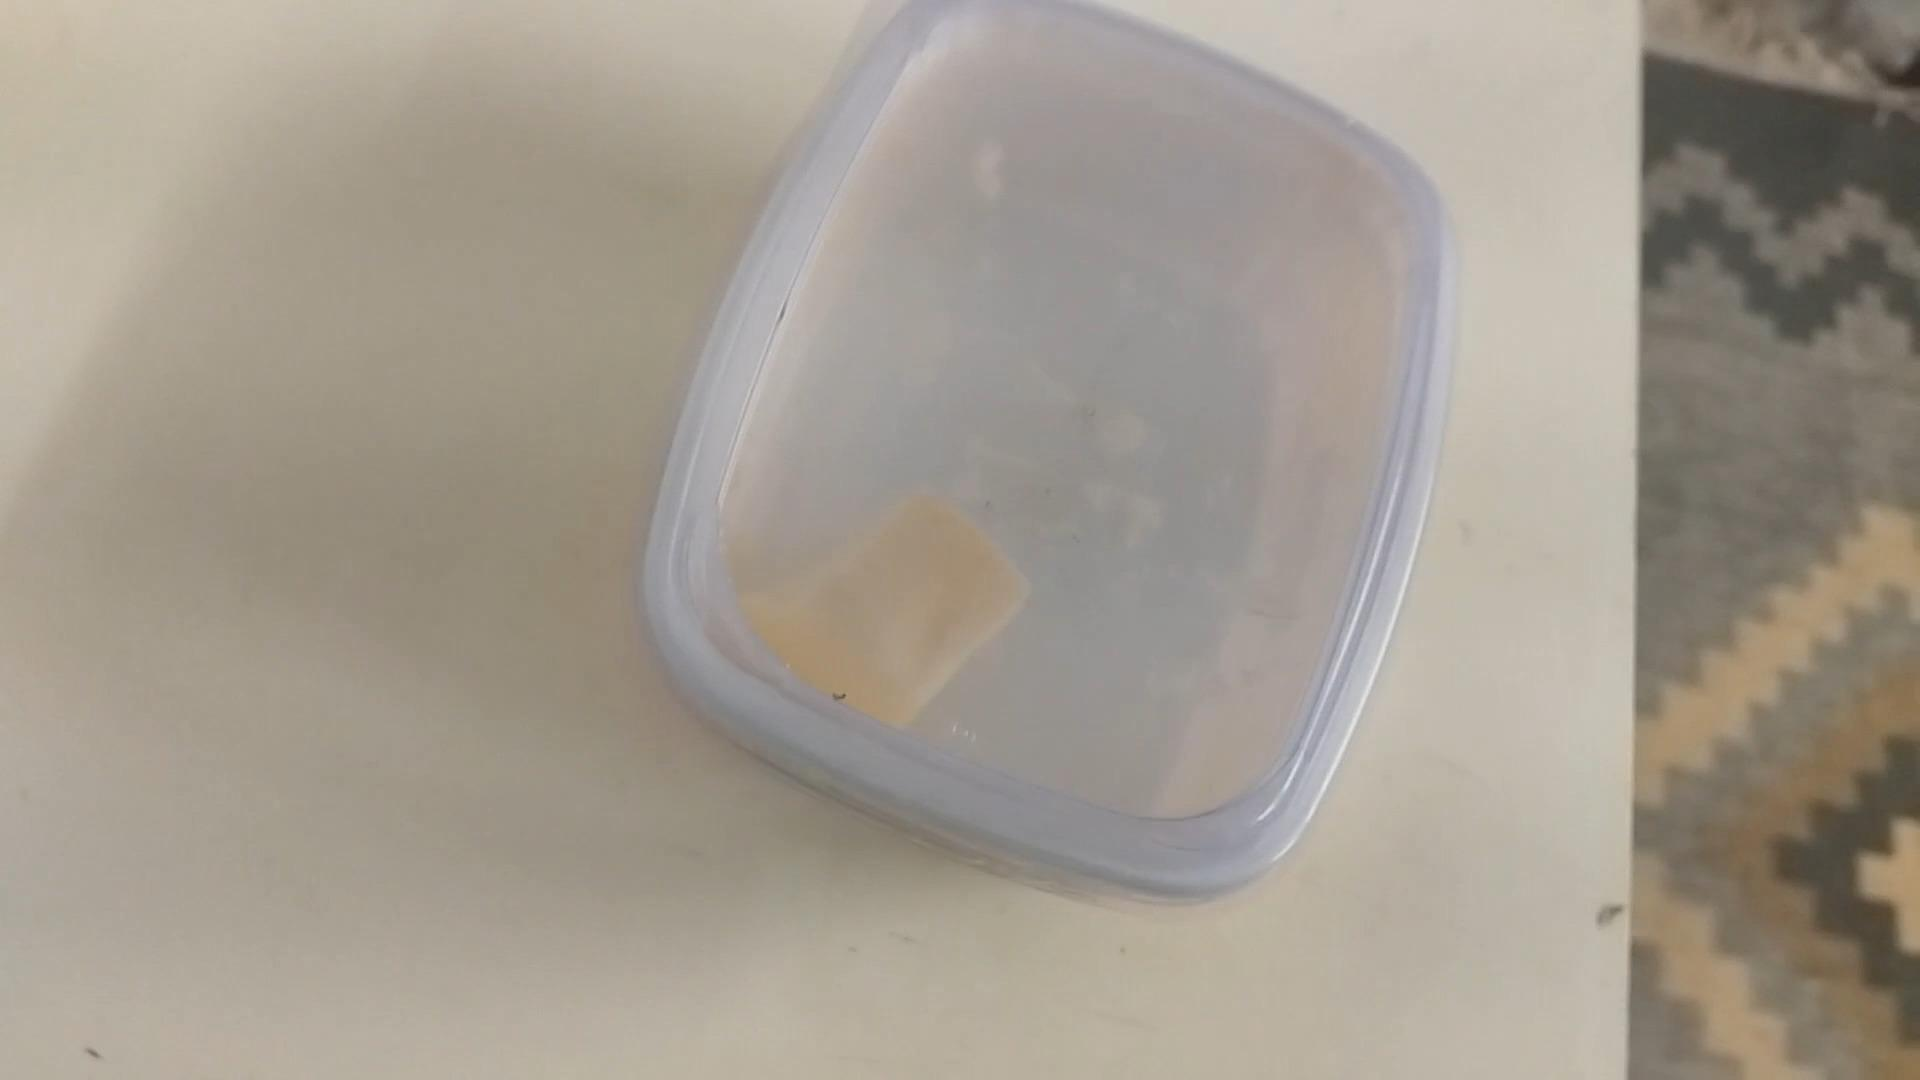butter: (641, 15, 1448, 910)
